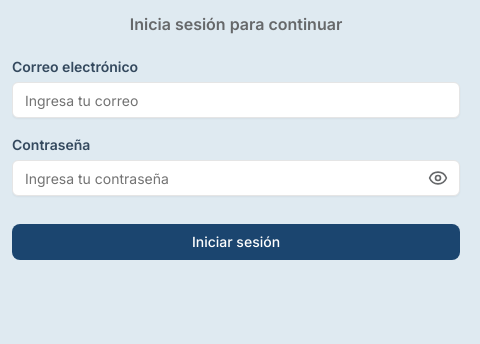
Flujo de Autenticación: <LoginForm /> › 3. Muestra un error si las credenciales son incorrectas (Rechazo del backend)
Type "test@universitas.com" into the field labelled "Correo electrónico" at point(236, 100), box top-left (12, 82), bottom-right (460, 118)
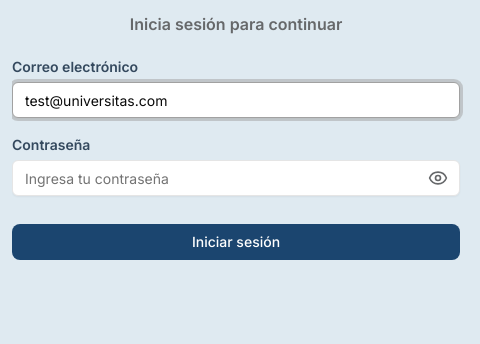
Type "password123" into the password field labelled "Contraseña" at point(236, 178), box top-left (12, 160), bottom-right (460, 196)
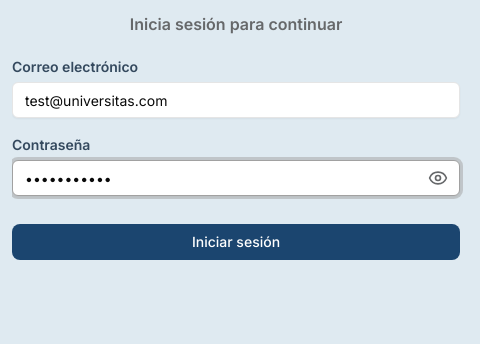
Click the button "Iniciar sesión" at point(236, 242), box top-left (12, 224), bottom-right (460, 260)
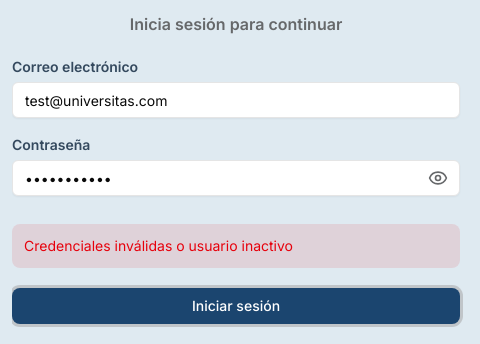
Check: the text "Credenciales inválidas o usuario inactivo" is shown, box top-left (12, 224), bottom-right (460, 268)
